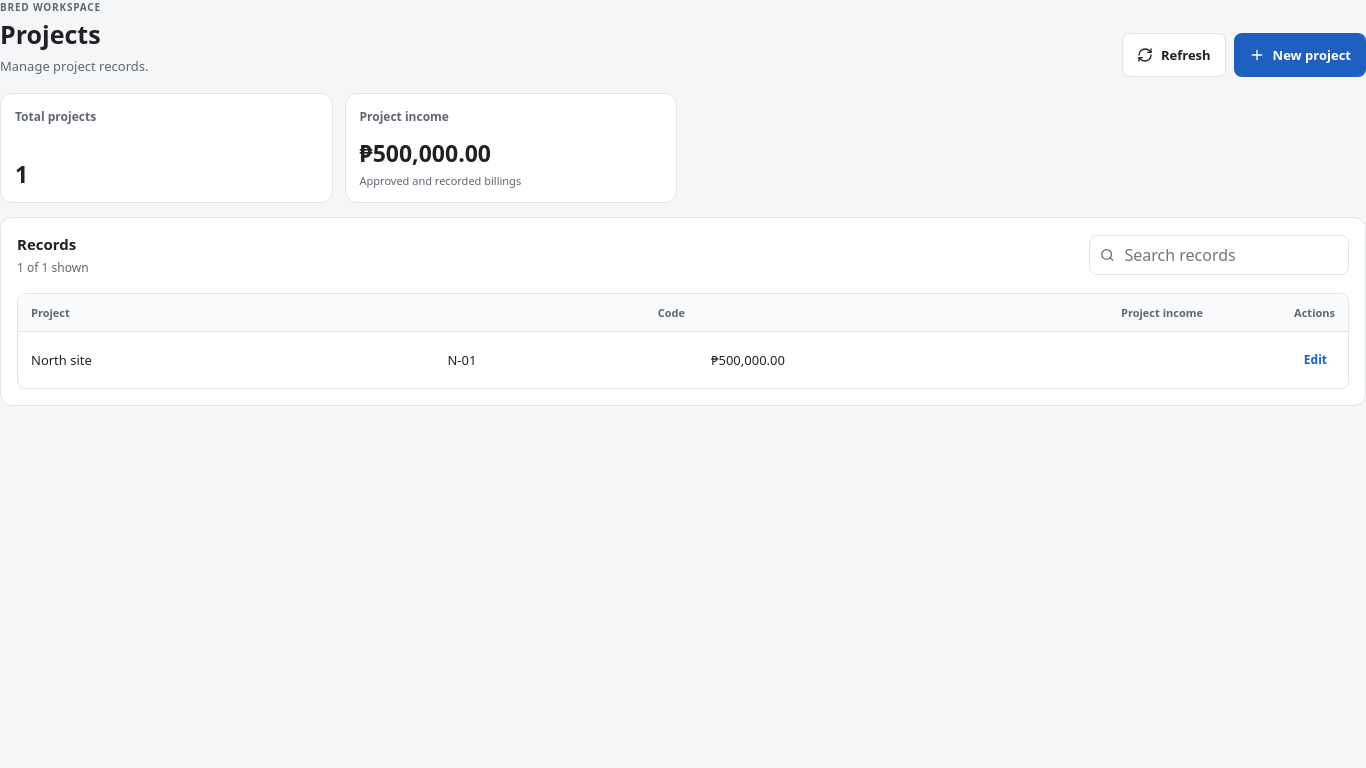
Scenario: ModuleWorkspace › submits a new record through the Java-backed module API
Expected: the text "North site" is shown, x1=18 y1=332 x2=434 y2=388
Click the button "New project".
click(1300, 55)  # box x1=1234 y1=33 x2=1365 y2=77
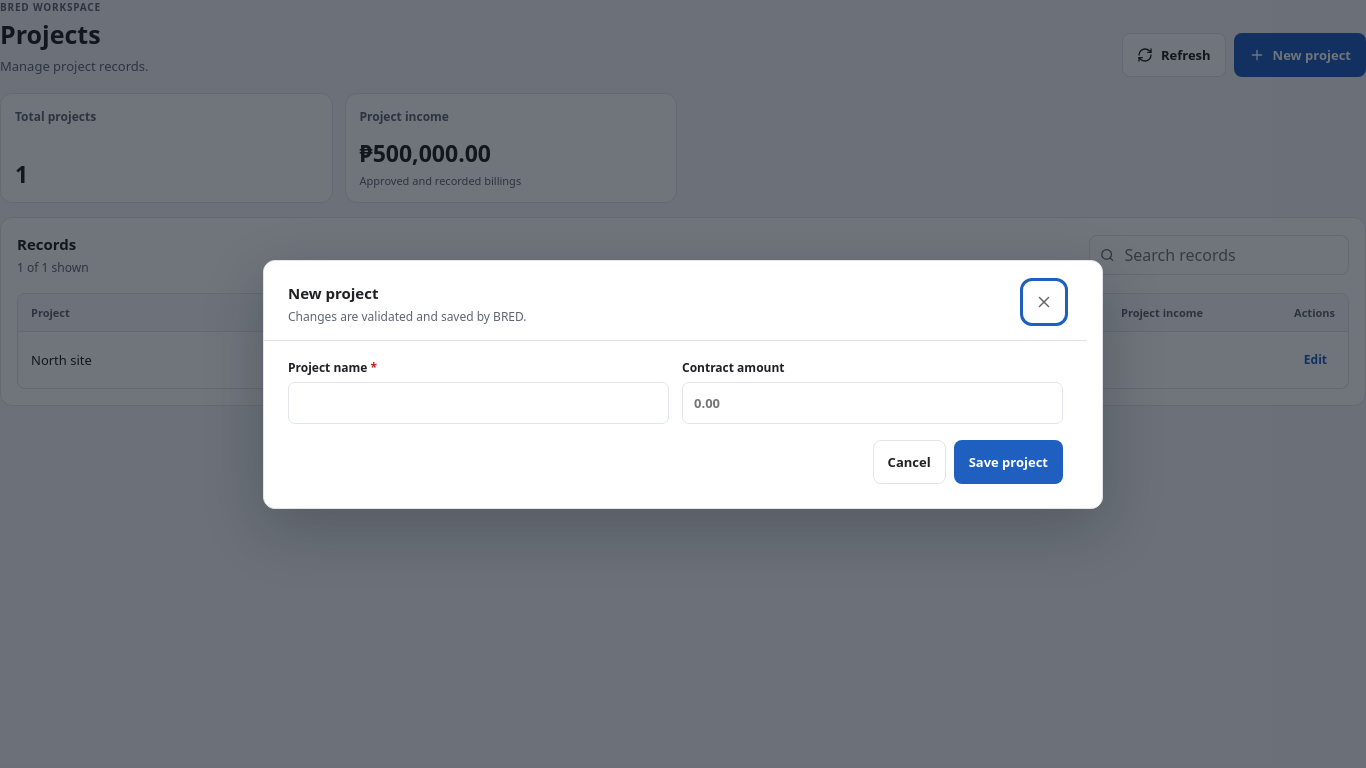
Expected: the dialog "New project" is shown, x1=263 y1=260 x2=1103 y2=508
Type "South site" into the field labelled "Project name *".
click(478, 402); type("South site")  # box x1=288 y1=382 x2=669 y2=424
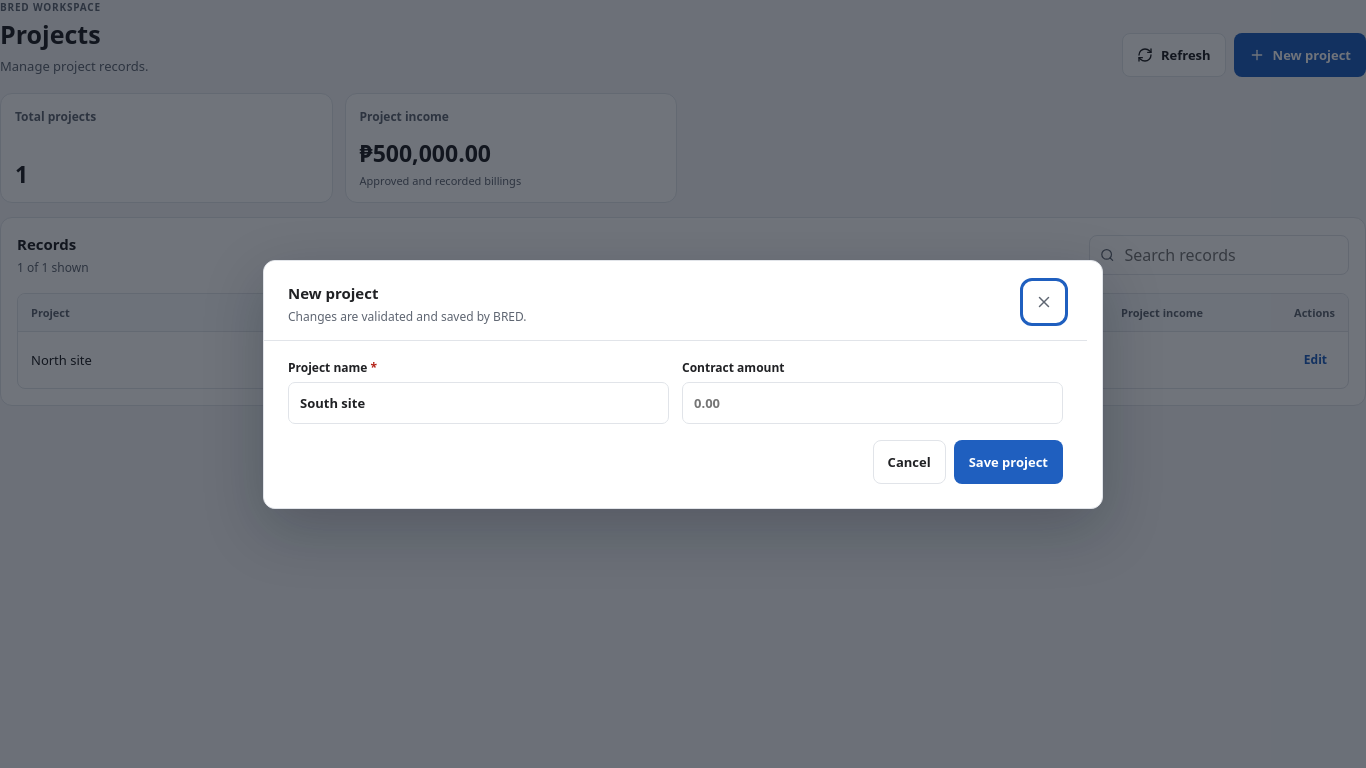
Click the button "Save project".
click(1008, 462)  # box x1=954 y1=440 x2=1063 y2=484
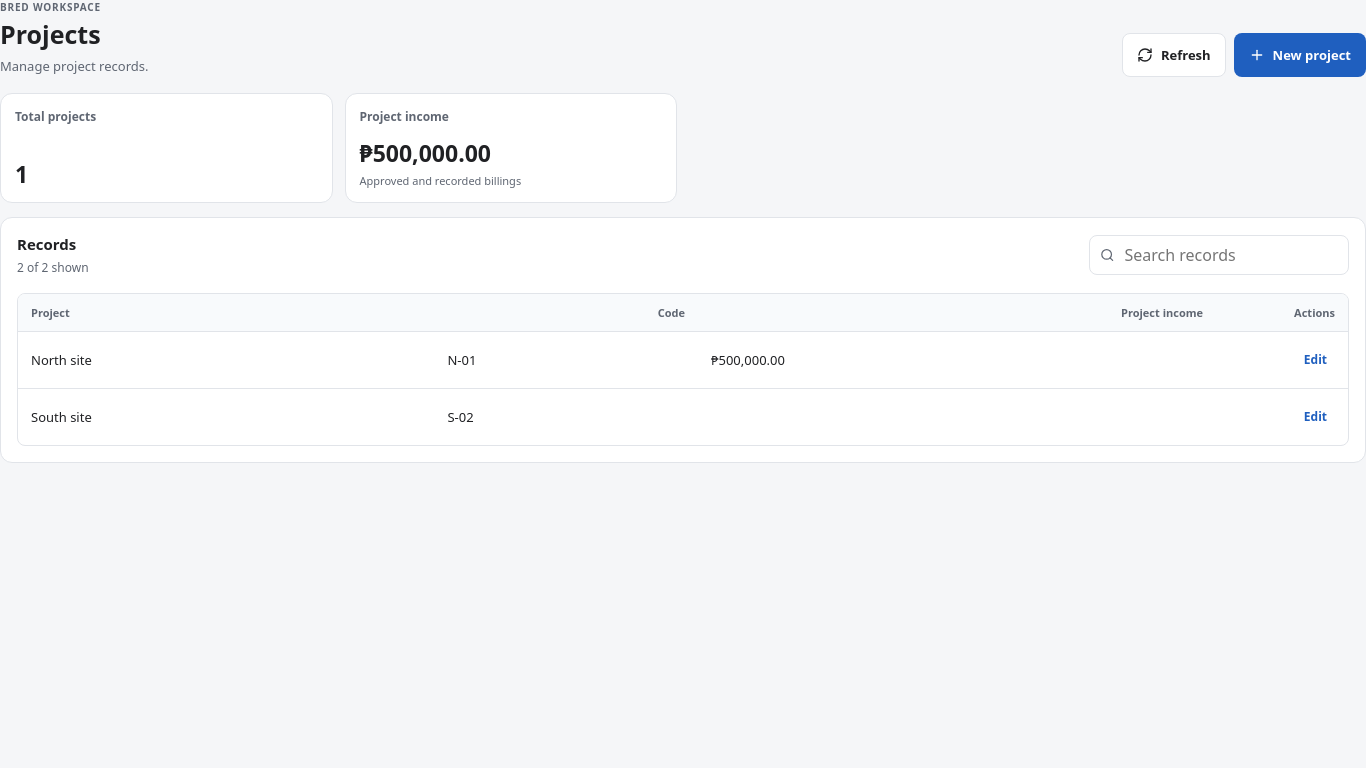
Expected: the text "South site" is shown, x1=18 y1=389 x2=434 y2=445
